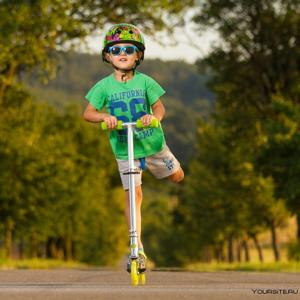human on a scooter: (83, 23, 185, 287)
